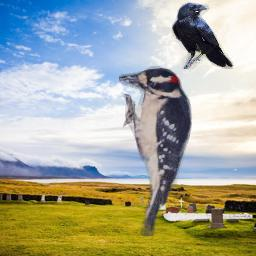Crow: (172, 2, 234, 69)
Woodpecker: (119, 64, 195, 236)
